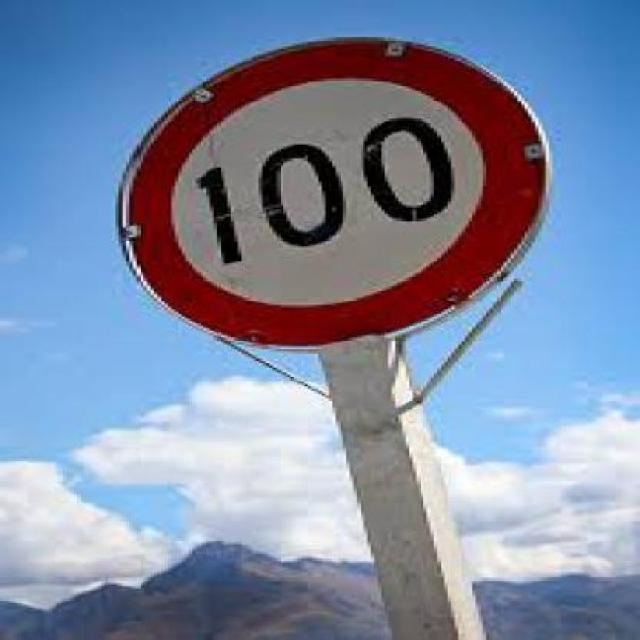forb_speed_over_100: (135, 39, 547, 333)
